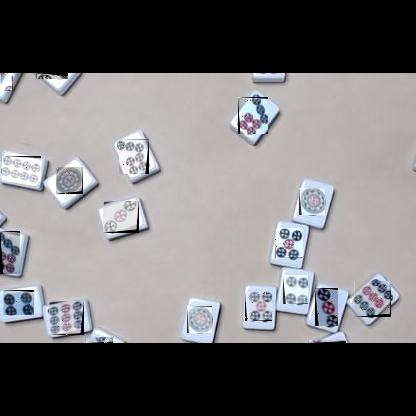1p: (56, 167, 83, 194), (299, 188, 325, 215), (187, 306, 212, 333)
2p: (36, 73, 68, 79)
3p: (103, 201, 139, 233), (315, 288, 338, 326)
4p: (3, 290, 34, 315), (283, 275, 308, 304), (85, 337, 113, 343)
5p: (275, 228, 303, 258), (245, 291, 272, 321)
6p: (0, 73, 13, 91), (308, 340, 346, 343)
7p: (238, 97, 268, 134), (119, 139, 149, 174), (0, 231, 20, 274)
8p: (2, 156, 41, 182)
9p: (354, 281, 391, 317), (49, 301, 84, 335)
